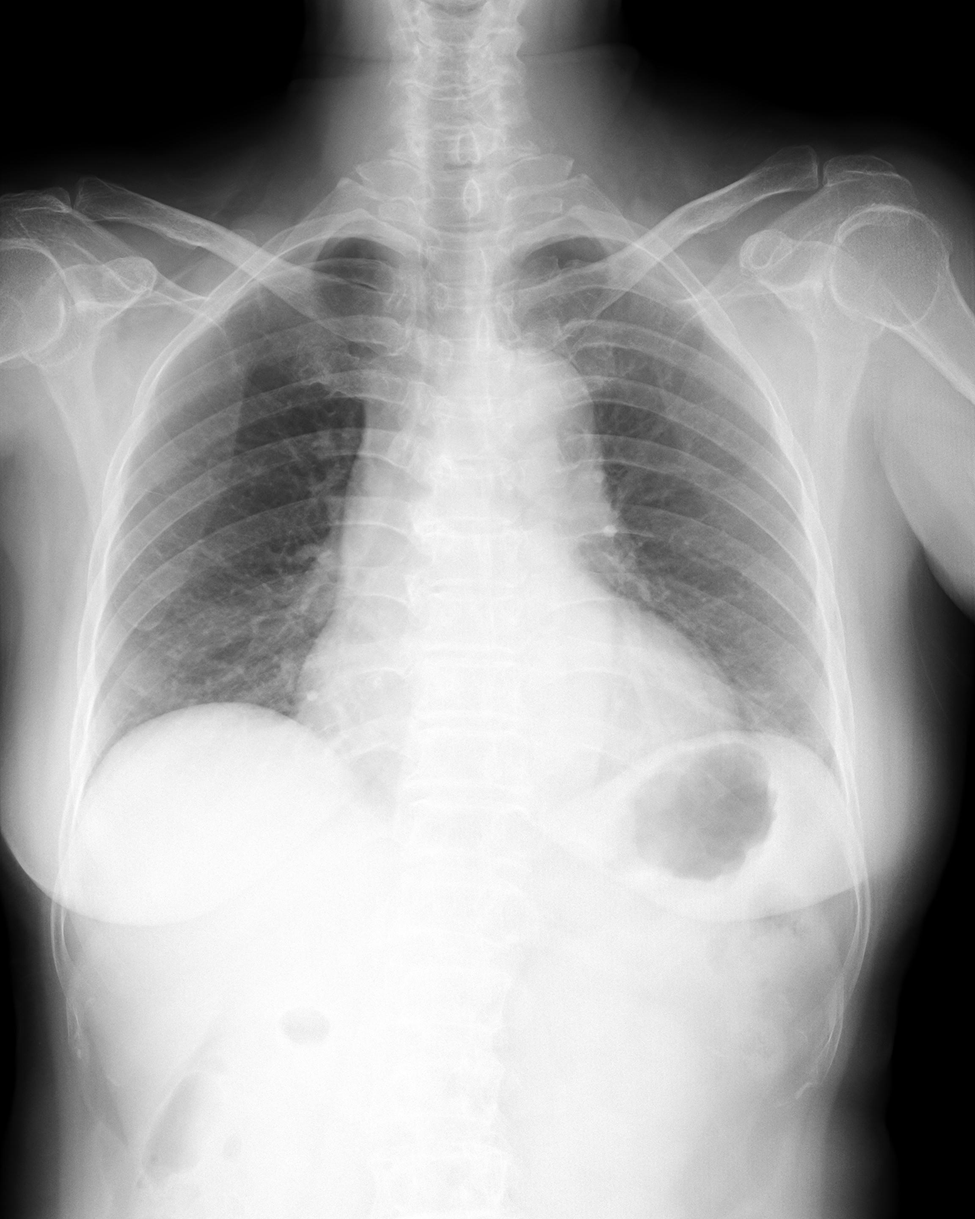Aortic enlargement: (462, 344, 600, 518)
